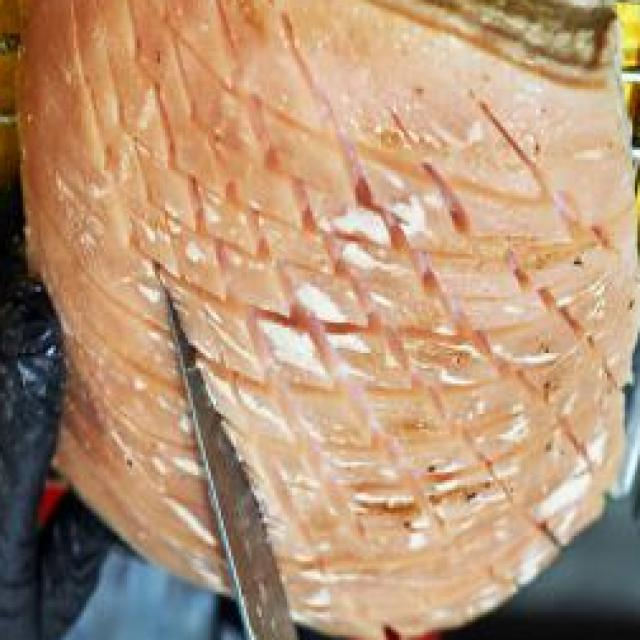knife: (150, 251, 322, 640)
